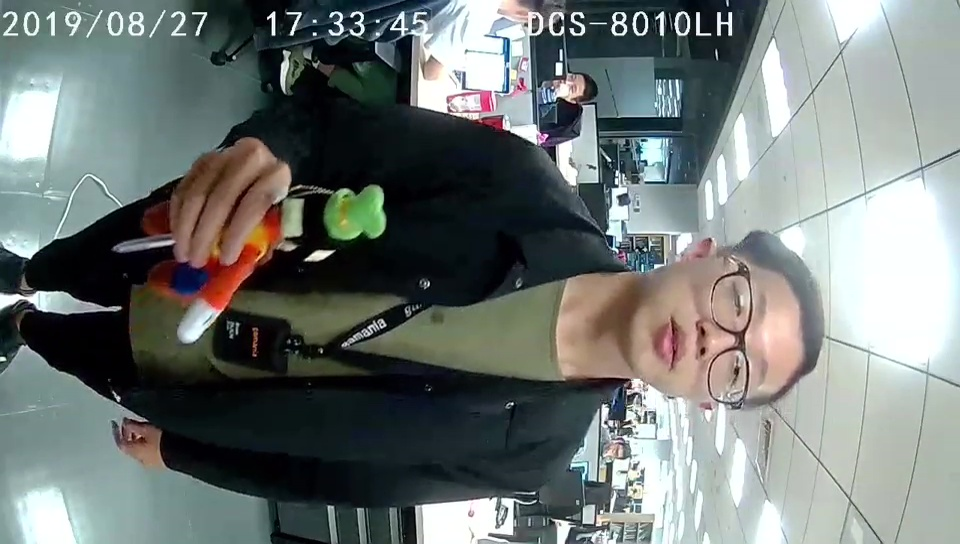goofy: (146, 182, 385, 344)
